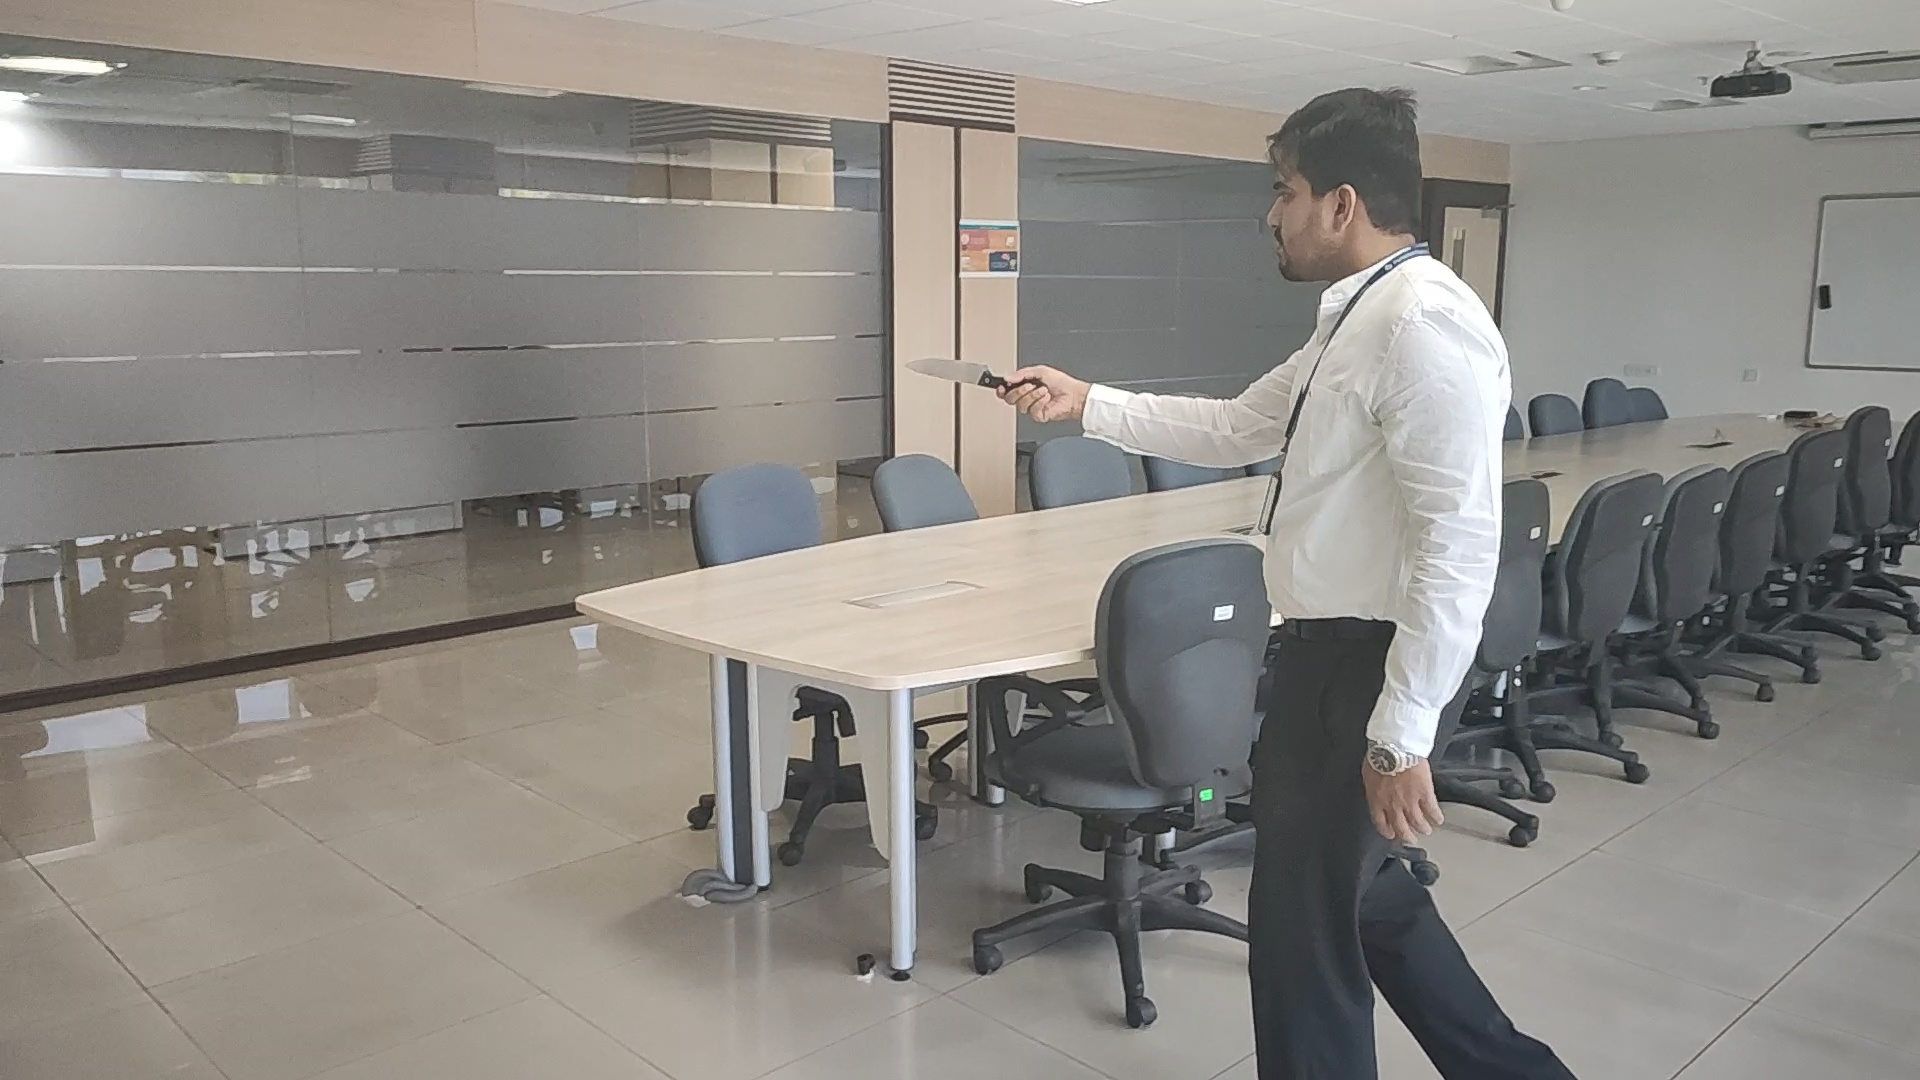knife: (905, 357, 996, 389)
